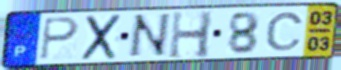8: (227, 10, 262, 56)
C: (264, 11, 306, 53)
H: (166, 10, 216, 61)
N: (125, 12, 173, 60)
P: (39, 16, 81, 62)
X: (79, 13, 123, 62)
